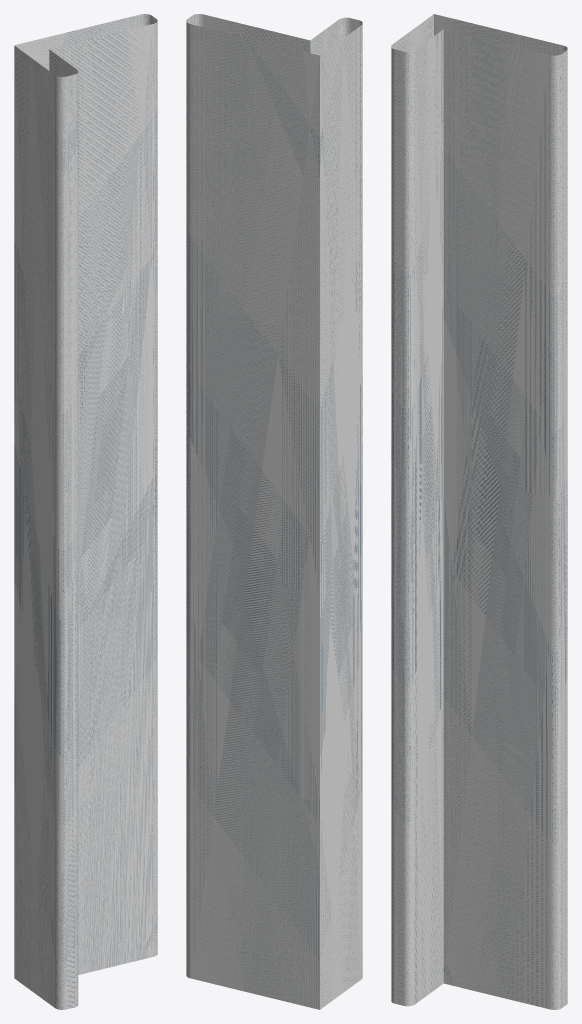
The model's file is PW_CornerFixElem_ds_T2_035x060x010x400.dae.
The picture shows the model from 3 angles, left to right: view 1: azimuth 30°, elevation 25°; view 2: azimuth 150°, elevation 25°; view 3: azimuth 330°, elevation 25°; orthographic projection. The views are drawn at different scales.
Parts seen in each view (by area): view 1: group_0; view 2: group_0; view 3: group_0.
Boxes of the visible parts, x1=… form: group_0: x1=14, y1=14, x2=157, y2=1009; group_0: x1=186, y1=14, x2=362, y2=1009; group_0: x1=391, y1=14, x2=567, y2=1009.
Bounding box in the file's own units: 23.62 × 13.78 × 157.
